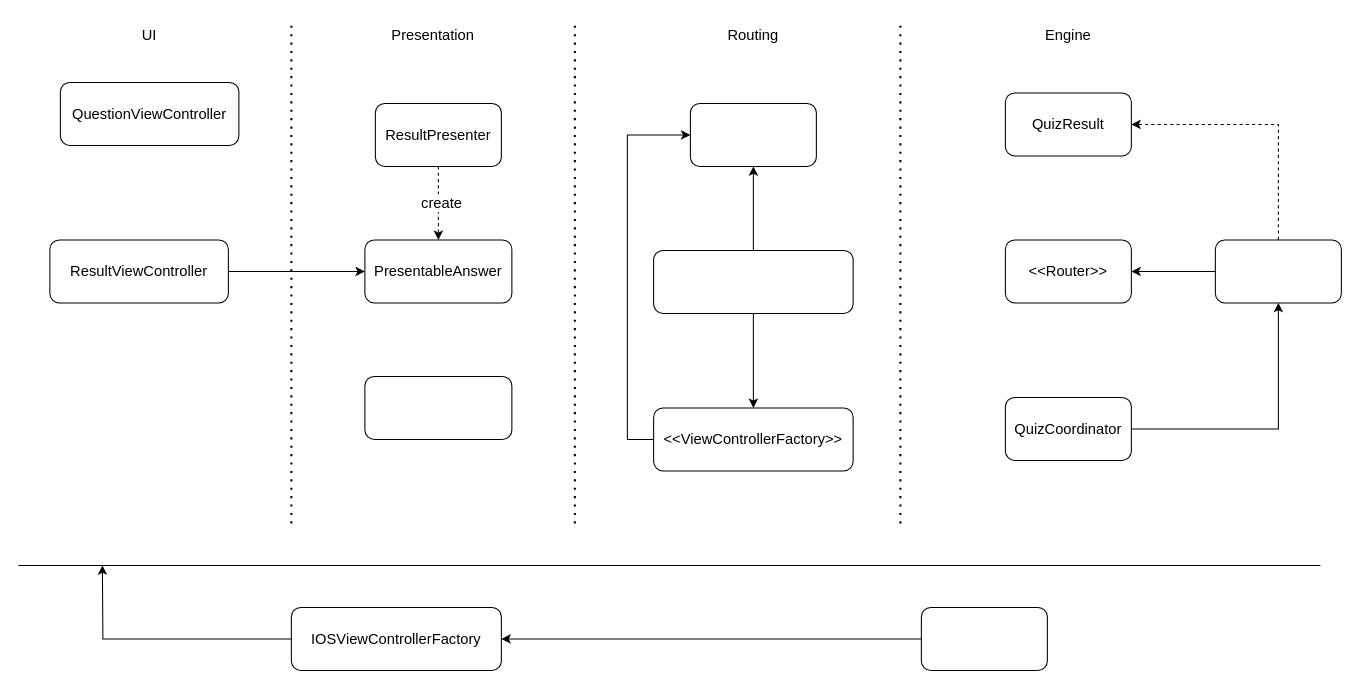
This 1360x689 diagram has some shape labels left out. The shapes that lost their labels are listed below. From the top down, each one's centre as x and y in pixels, then its label:
At (752,134): "QuizQuestion".
At (753,281): "NavigationControllerRouter".
At (1277,271): "Flow".
At (438,407): "QuestionPresenter".
At (983,638): "SceneDelegate".
